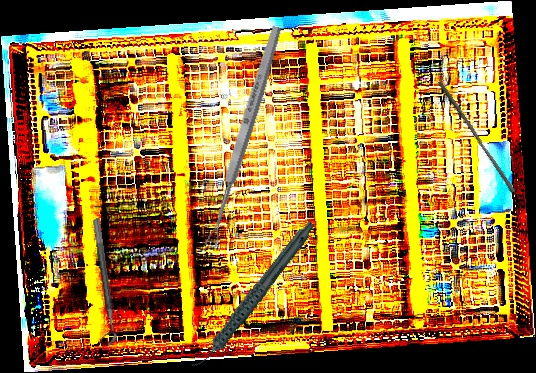Fixation Ring: (81, 217, 119, 348)
Handpiece: (166, 220, 340, 371)
Pusher: (433, 80, 520, 194)
Surgical Spoon: (202, 24, 285, 249)
